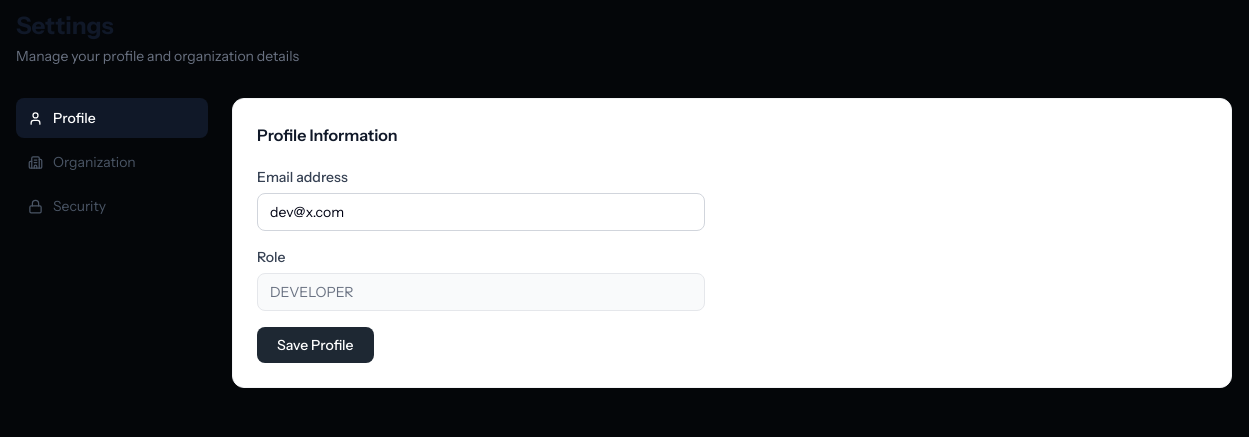
Test: SettingsPage › shows an error when saving the profile fails
Click the button "Save Profile" at {"x": 315, "y": 345}, box [257,327,374,363]
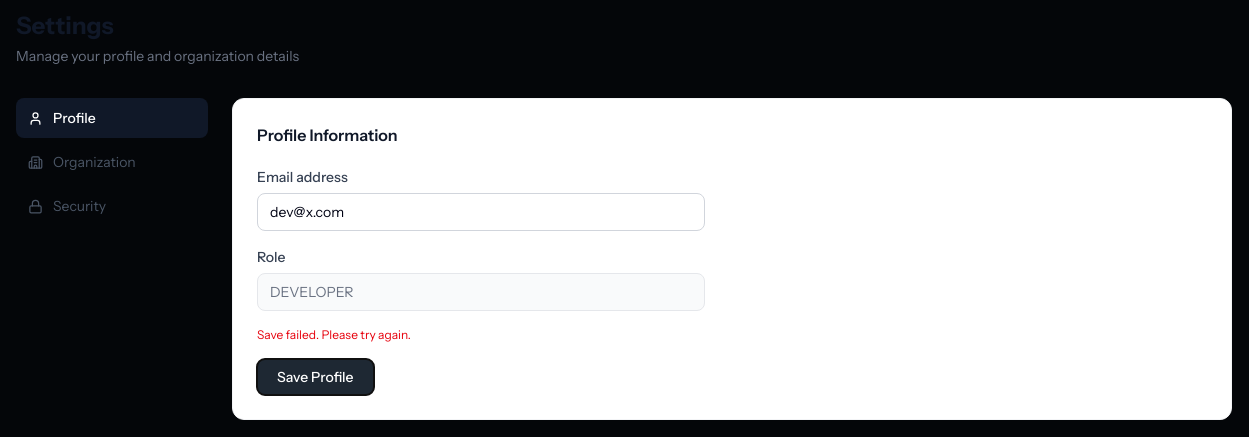
Expected: the text "Save failed. Please try again." is shown, [257,327,411,342]
